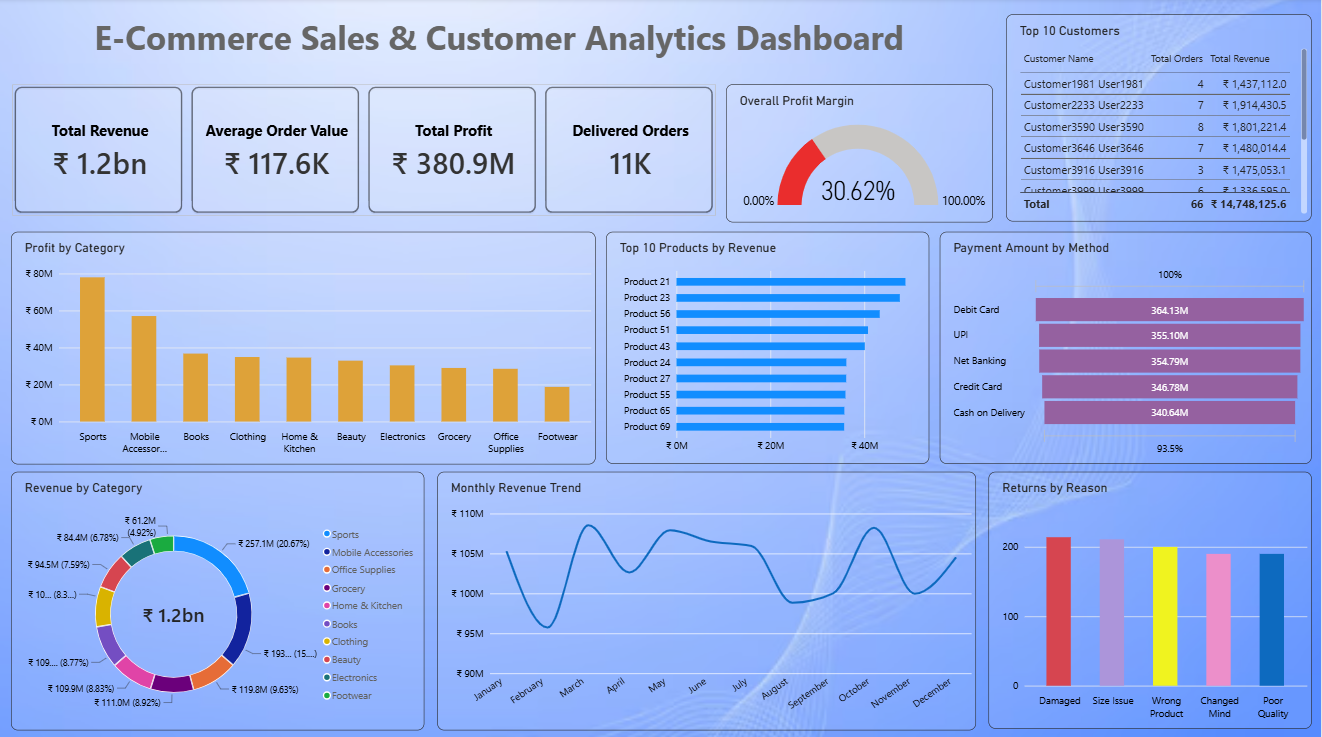

What the dashboard file says about the page in this screenshot:
{"tool":"powerbi","page":{"name":"Page 1","canvas":[1920,1080],"ordinal":0},"visuals":[{"type":"cardVisual","fields":{"Data":["categories.Total Revenue","categories.Average Order Value","categories.Total Profit","categories.Delivered Orders"]},"box":[23,124.9,1020.6,190],"z":0},{"type":"donutChart","title":"Revenue by Category","fields":{"Category":["categories.category_name"],"Y":["categories.Total Revenue"]},"box":[22,686,598,374],"z":1000},{"type":"clusteredBarChart","title":"Top 10 Products by Revenue","fields":{"Category":["products.product_name"],"Y":["categories.Total Revenue"]},"box":[884,338,468,336],"z":2000},{"type":"lineChart","title":"Monthly Revenue Trend","fields":{"Category":["orders.order_date.Variation.Date Hierarchy.Year","orders.order_date.Variation.Date Hierarchy.Month"],"Y":["categories.Total Revenue"]},"box":[638,686,780,374],"z":3000},{"type":"clusteredColumnChart","title":"Returns by Reason","fields":{"Category":["product_returns.reason"],"Y":["product_returns.Total Returns"]},"box":[1436,686,468,372],"z":4000},{"type":"clusteredColumnChart","title":"Profit by Category","fields":{"Category":["categories.category_name"],"Y":["categories.Total Profit"]},"box":[22,338,846,337],"z":5000},{"type":"clusteredBarChart","title":"Payment Amount by Method","fields":{"Category":["payments.payment_method"],"Y":["Sum(payments.amount)"]},"box":[1366,338,538,336],"z":6000},{"type":"gauge","title":"Overall Profit Margin","fields":{"Y":["categories.Profit Margin %"]},"box":[1056,124,386,200],"z":7000},{"type":"tableEx","title":"Top 10 Customers","fields":{"Values":["customers.Customer Name","categories.Total Orders","categories.Total Revenue"]},"box":[1462,24,442,300],"z":8000},{"type":"textbox","box":[38,23.5,1380.8,101.3],"z":9000}]}

Visuals, with their boxes in screenshot pixels (x1, y1, x2, y2), scaled from the page's 1920x1080 canvas onto the 1322x737 screenshot:
cardVisual - categories.Total Revenue x categories.Average Order Value: locate(16, 85, 719, 215)
"Revenue by Category" donutChart: locate(15, 468, 427, 723)
"Top 10 Products by Revenue" clusteredBarChart: locate(609, 231, 931, 460)
"Monthly Revenue Trend" lineChart: locate(439, 468, 976, 723)
"Returns by Reason" clusteredColumnChart: locate(989, 468, 1311, 722)
"Profit by Category" clusteredColumnChart: locate(15, 231, 598, 461)
"Payment Amount by Method" clusteredBarChart: locate(941, 231, 1311, 460)
"Overall Profit Margin" gauge: locate(727, 85, 993, 221)
"Top 10 Customers" tableEx: locate(1007, 16, 1311, 221)
textbox: locate(26, 16, 977, 85)
